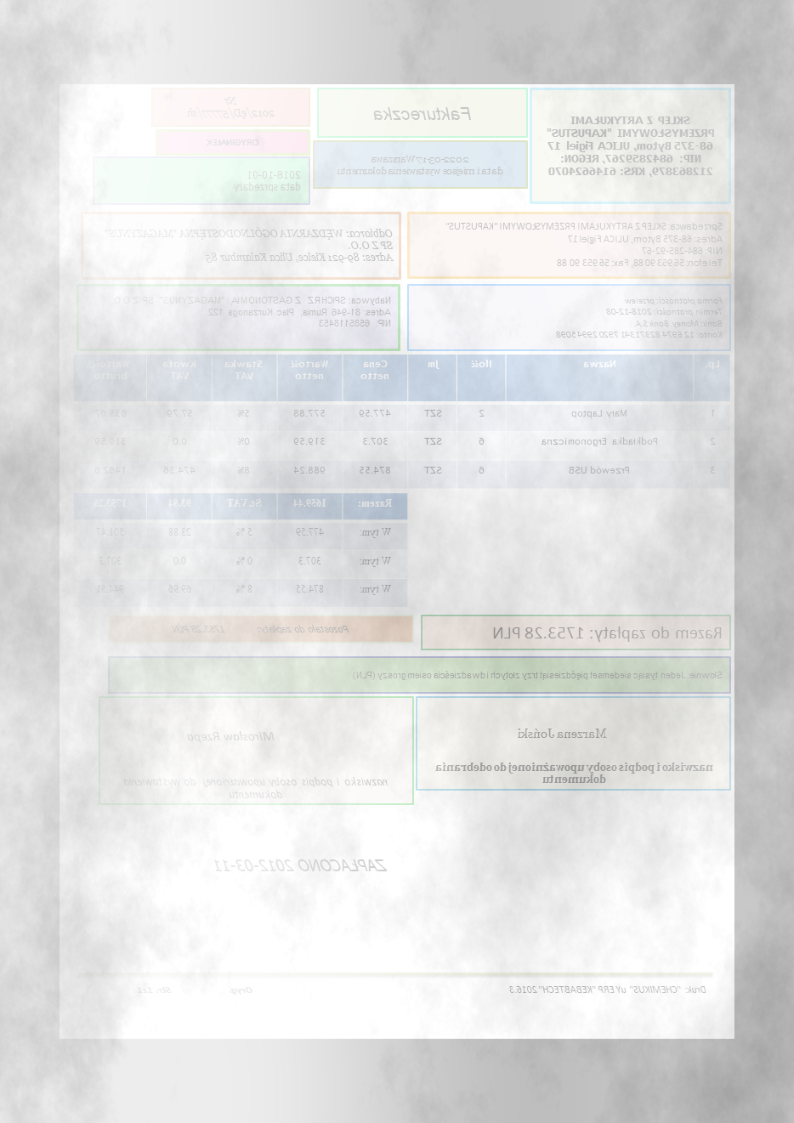Table: (71, 352, 732, 491), (71, 490, 409, 606)
TextBox: (445, 217, 726, 270), (101, 224, 395, 266), (545, 111, 718, 179), (111, 292, 393, 330), (553, 293, 725, 341), (434, 759, 716, 786), (122, 773, 391, 801), (349, 667, 726, 683), (491, 621, 726, 644), (335, 151, 506, 179), (209, 853, 389, 876), (505, 981, 709, 996), (169, 621, 353, 637), (185, 94, 277, 122), (372, 102, 475, 126), (234, 166, 304, 194), (516, 723, 611, 742), (184, 726, 277, 745), (135, 983, 256, 997), (207, 134, 262, 149)
